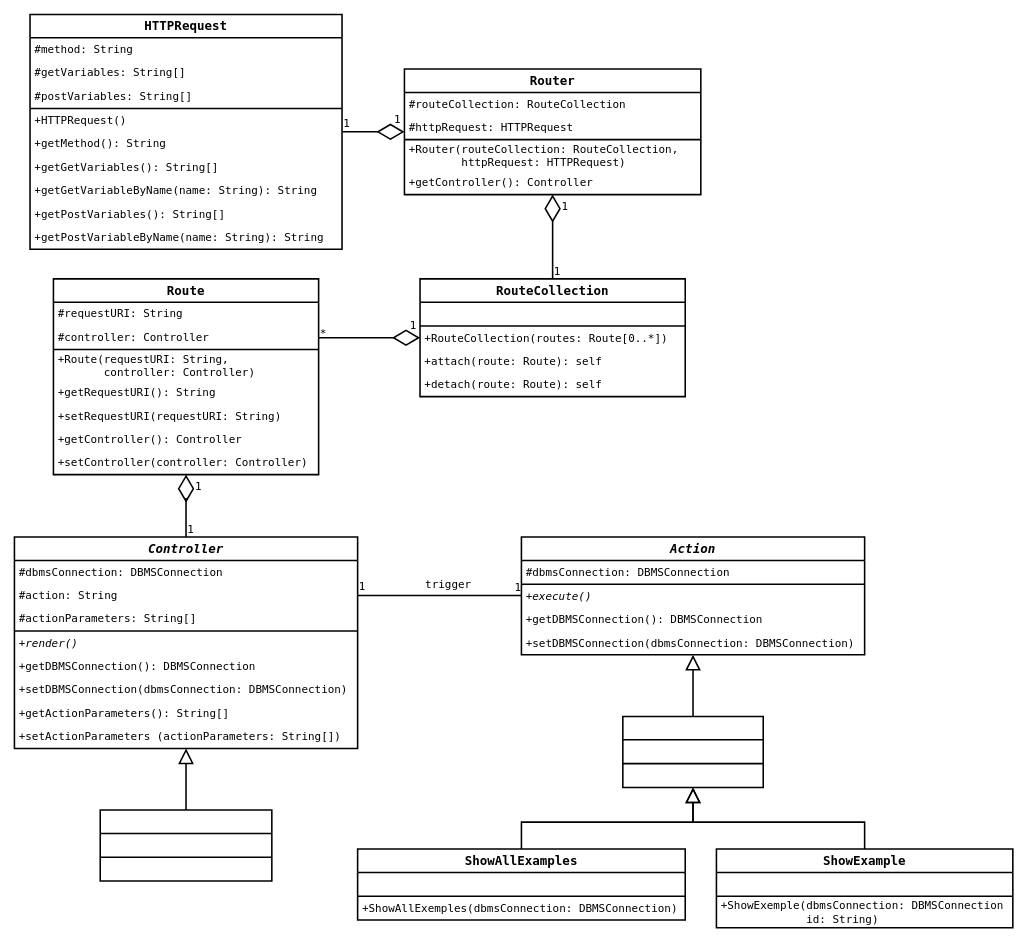
This 1026x941 diagram has some shape labels left out. Each missing label, with the centre of its shape:
"ExampleController" belongs at point (185, 845).
"ExempleAction" belongs at point (693, 751).
